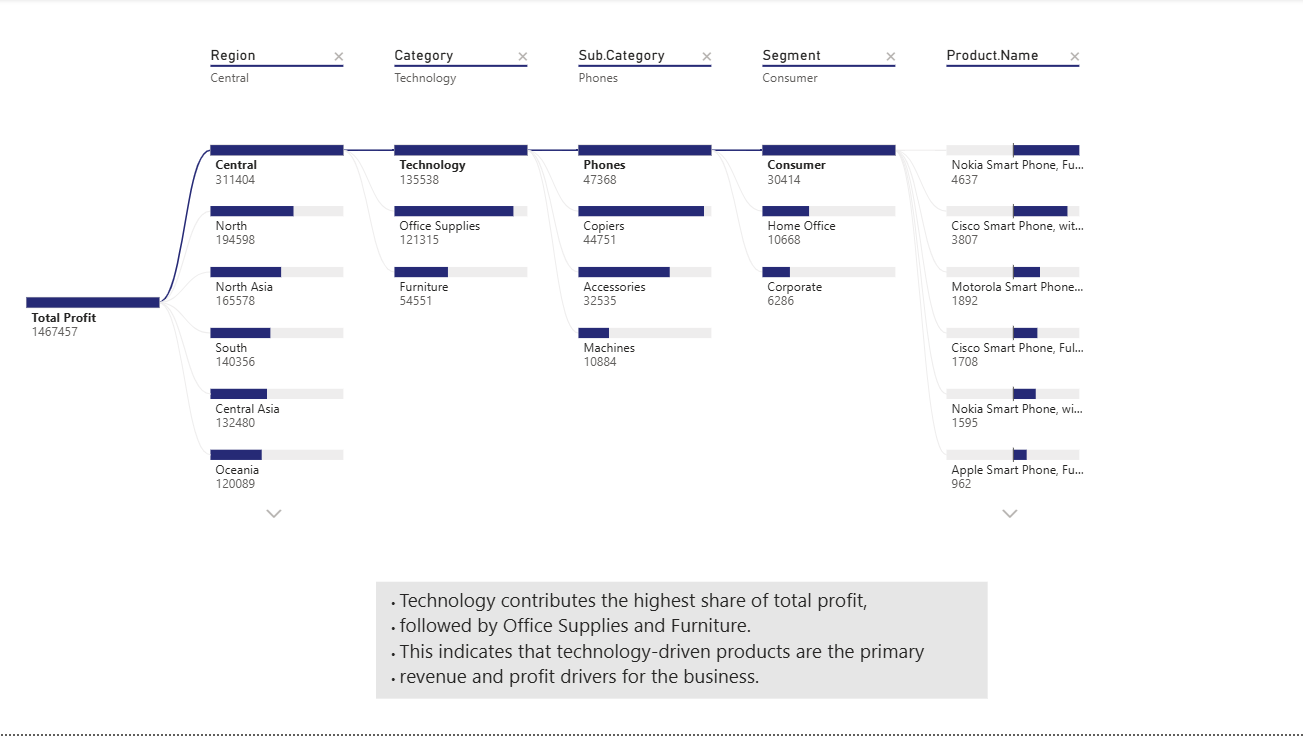

The dashboard page shown, as its layout file describes it:
{"tool":"powerbi","page":{"name":"Page 3","canvas":[1280,720],"ordinal":2},"visuals":[{"type":"decompositionTreeVisual","fields":{"Analyze":["Sales_fact.Total Profit"],"ExplainBy":["Sales_fact.Region","Sales_fact.Category","Sales_fact.Sub.Category","Sales_fact.Segment","Sales_fact.Product.Name"]},"box":[0,30,1250,512.9],"z":0},{"type":"textbox","box":[371.4,571.4,598.6,114.3],"z":1000}]}

Visuals, with their boxes in screenshot pixels (x1, y1, x2, y2), scaled from the page's 1280x720 canvas onto the 1303x739 screenshot:
decompositionTreeVisual - Sales_fact.Total Profit x Sales_fact.Region: pyautogui.locateOnScreen(0, 31, 1272, 557)
textbox: pyautogui.locateOnScreen(378, 586, 987, 704)
